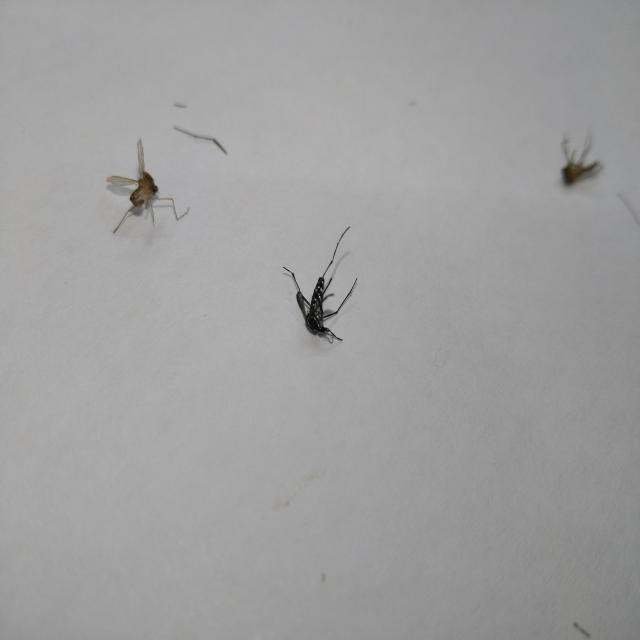albopictus: (278, 218, 363, 350)
